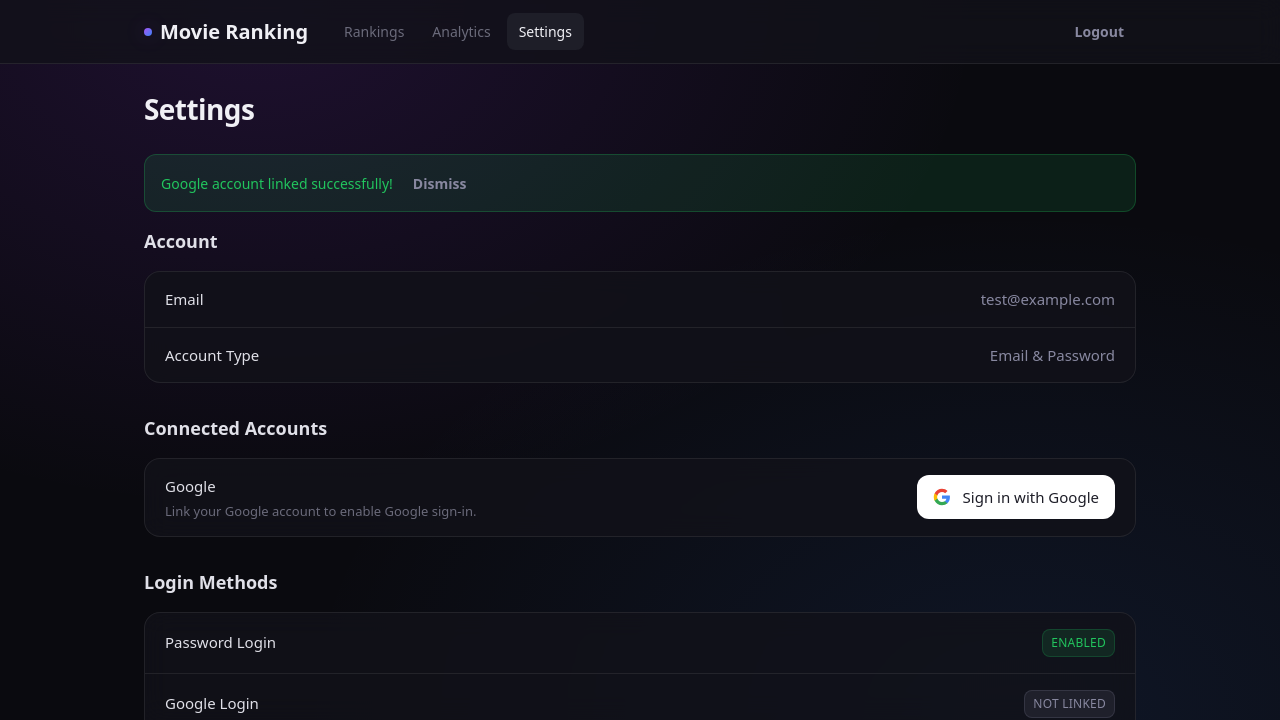
SettingsPage › Callback Handling › dismisses success message when button clicked
The image size is (1280, 720).
Expected: the text "Google account linked successfully!" is shown, [161,174,393,192]
Click the button "Dismiss" at (440, 183), box [401,167,478,199]
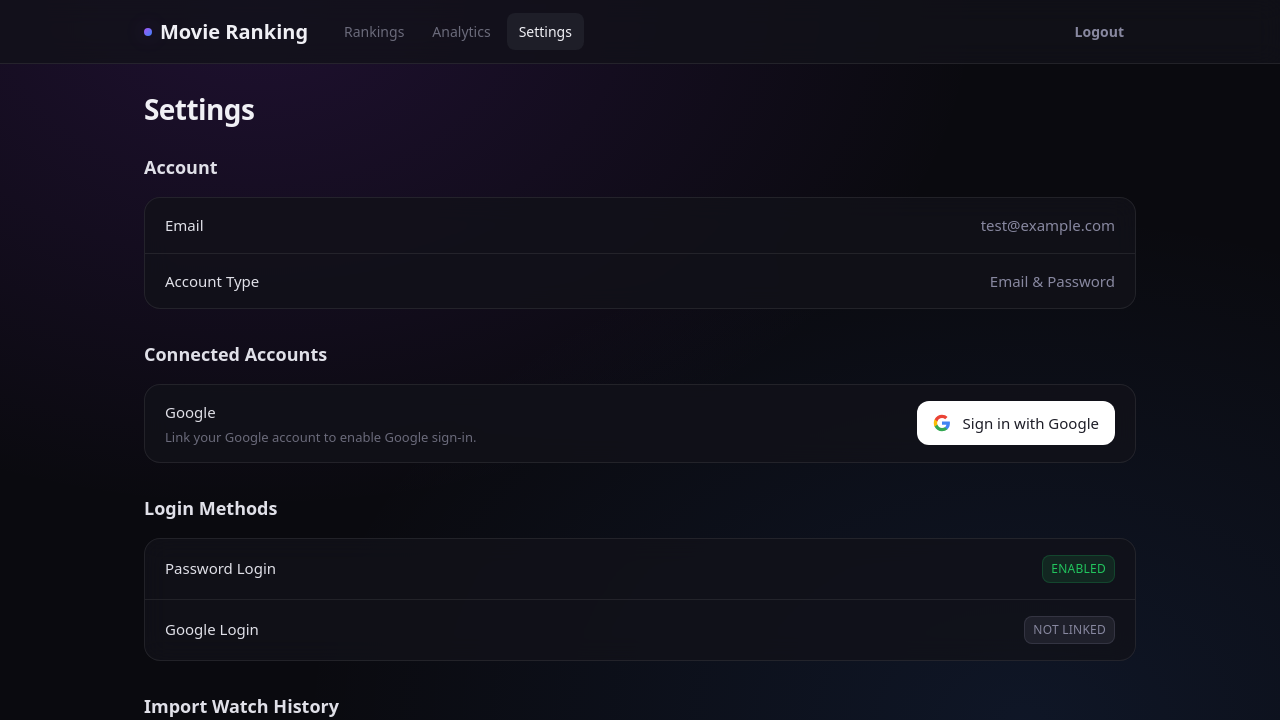
Expected: the text "Google account linked successfully!" is gone
